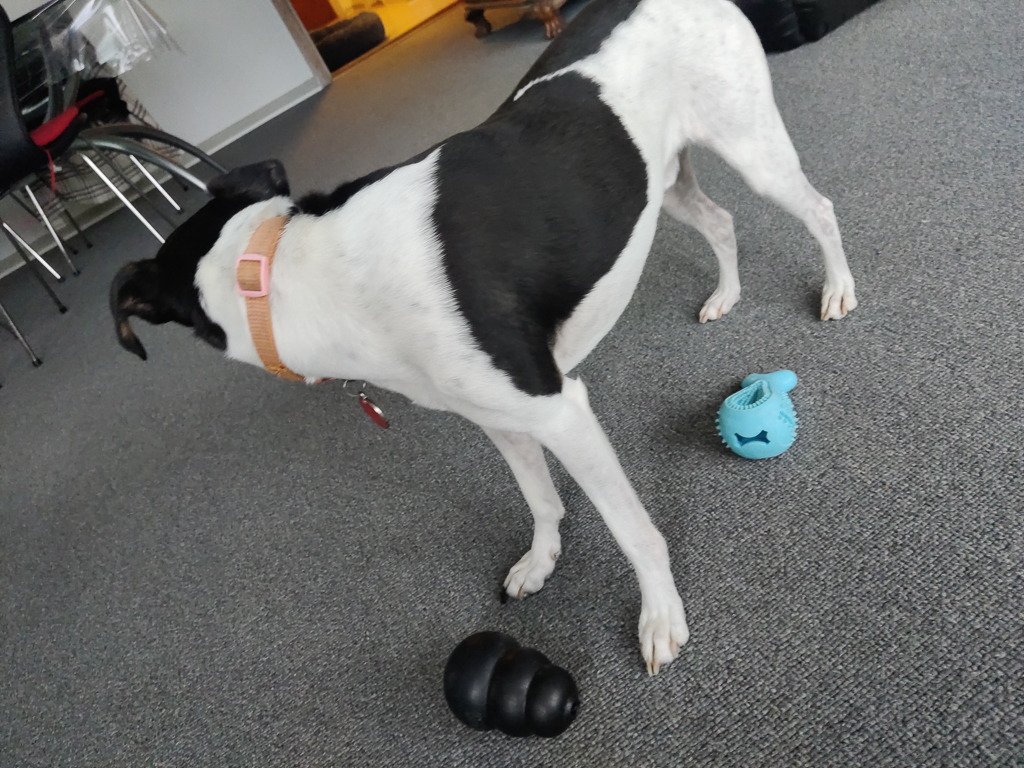Dog: (97, 0, 871, 690)
